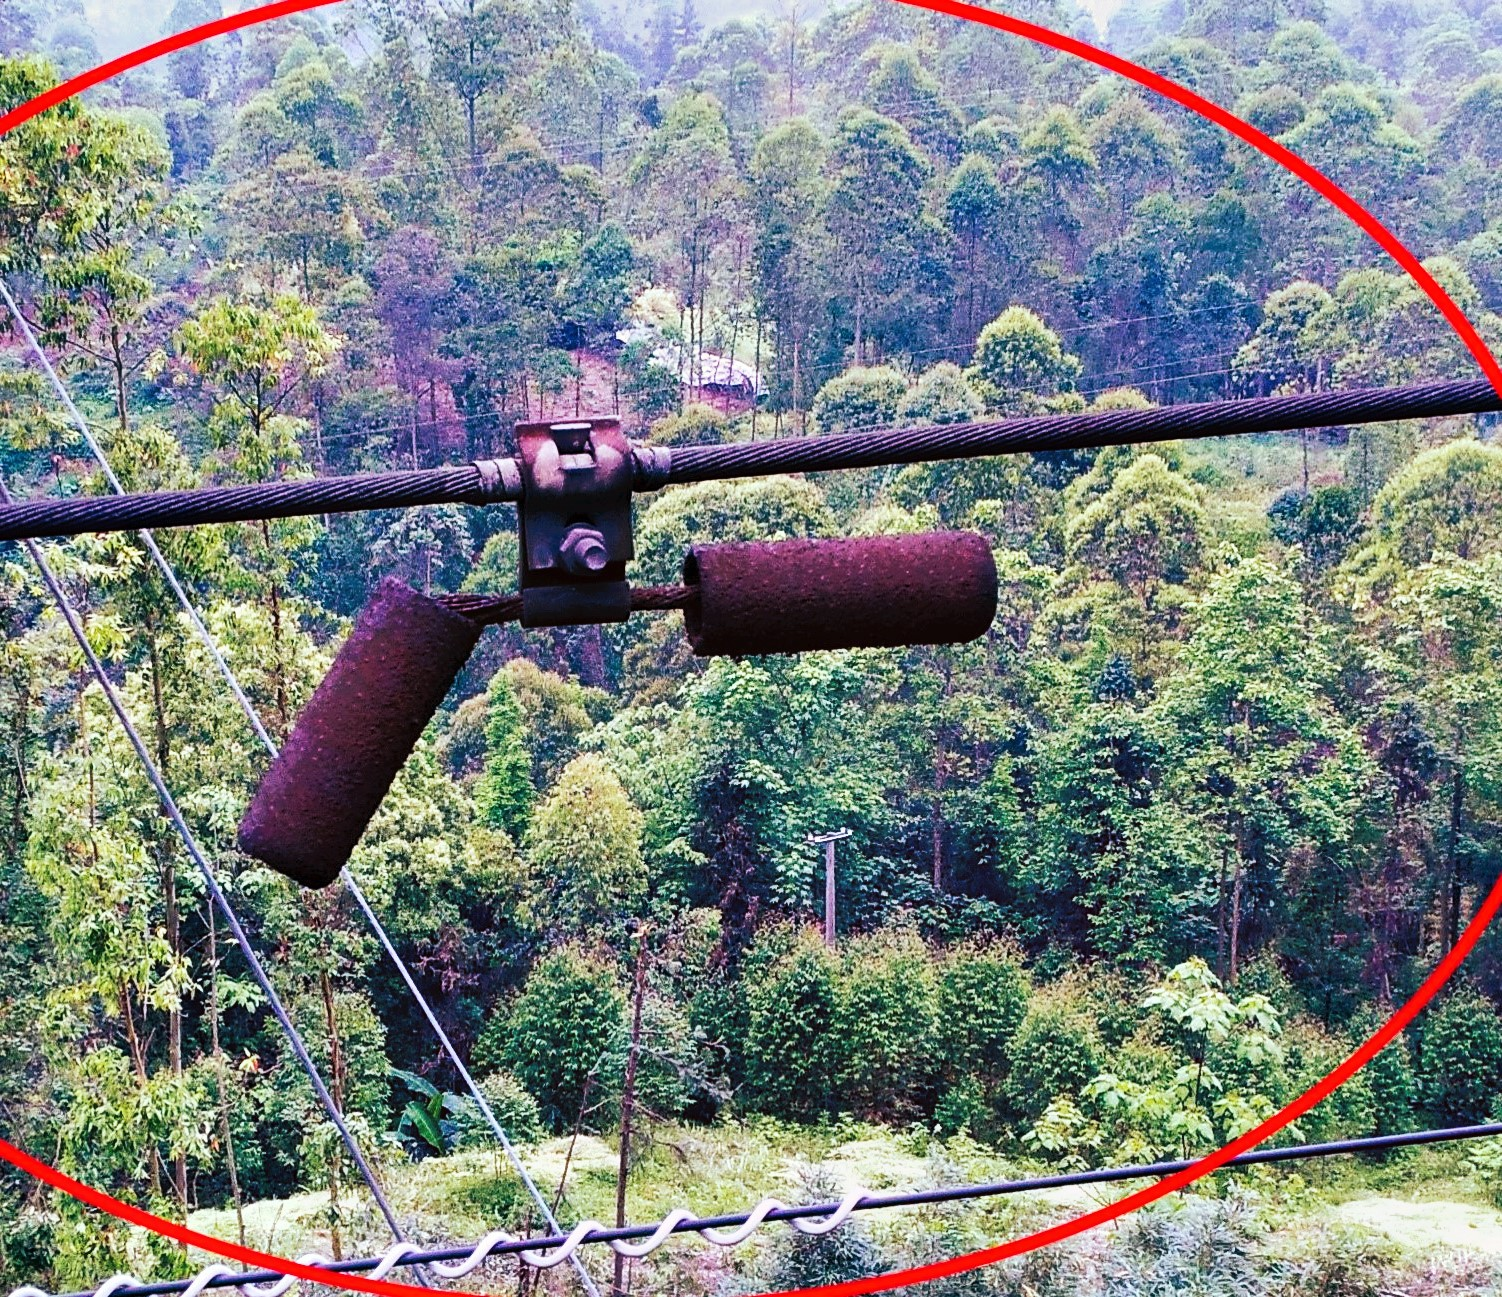Damage of shockproof hammer: (207, 350, 1029, 917)
